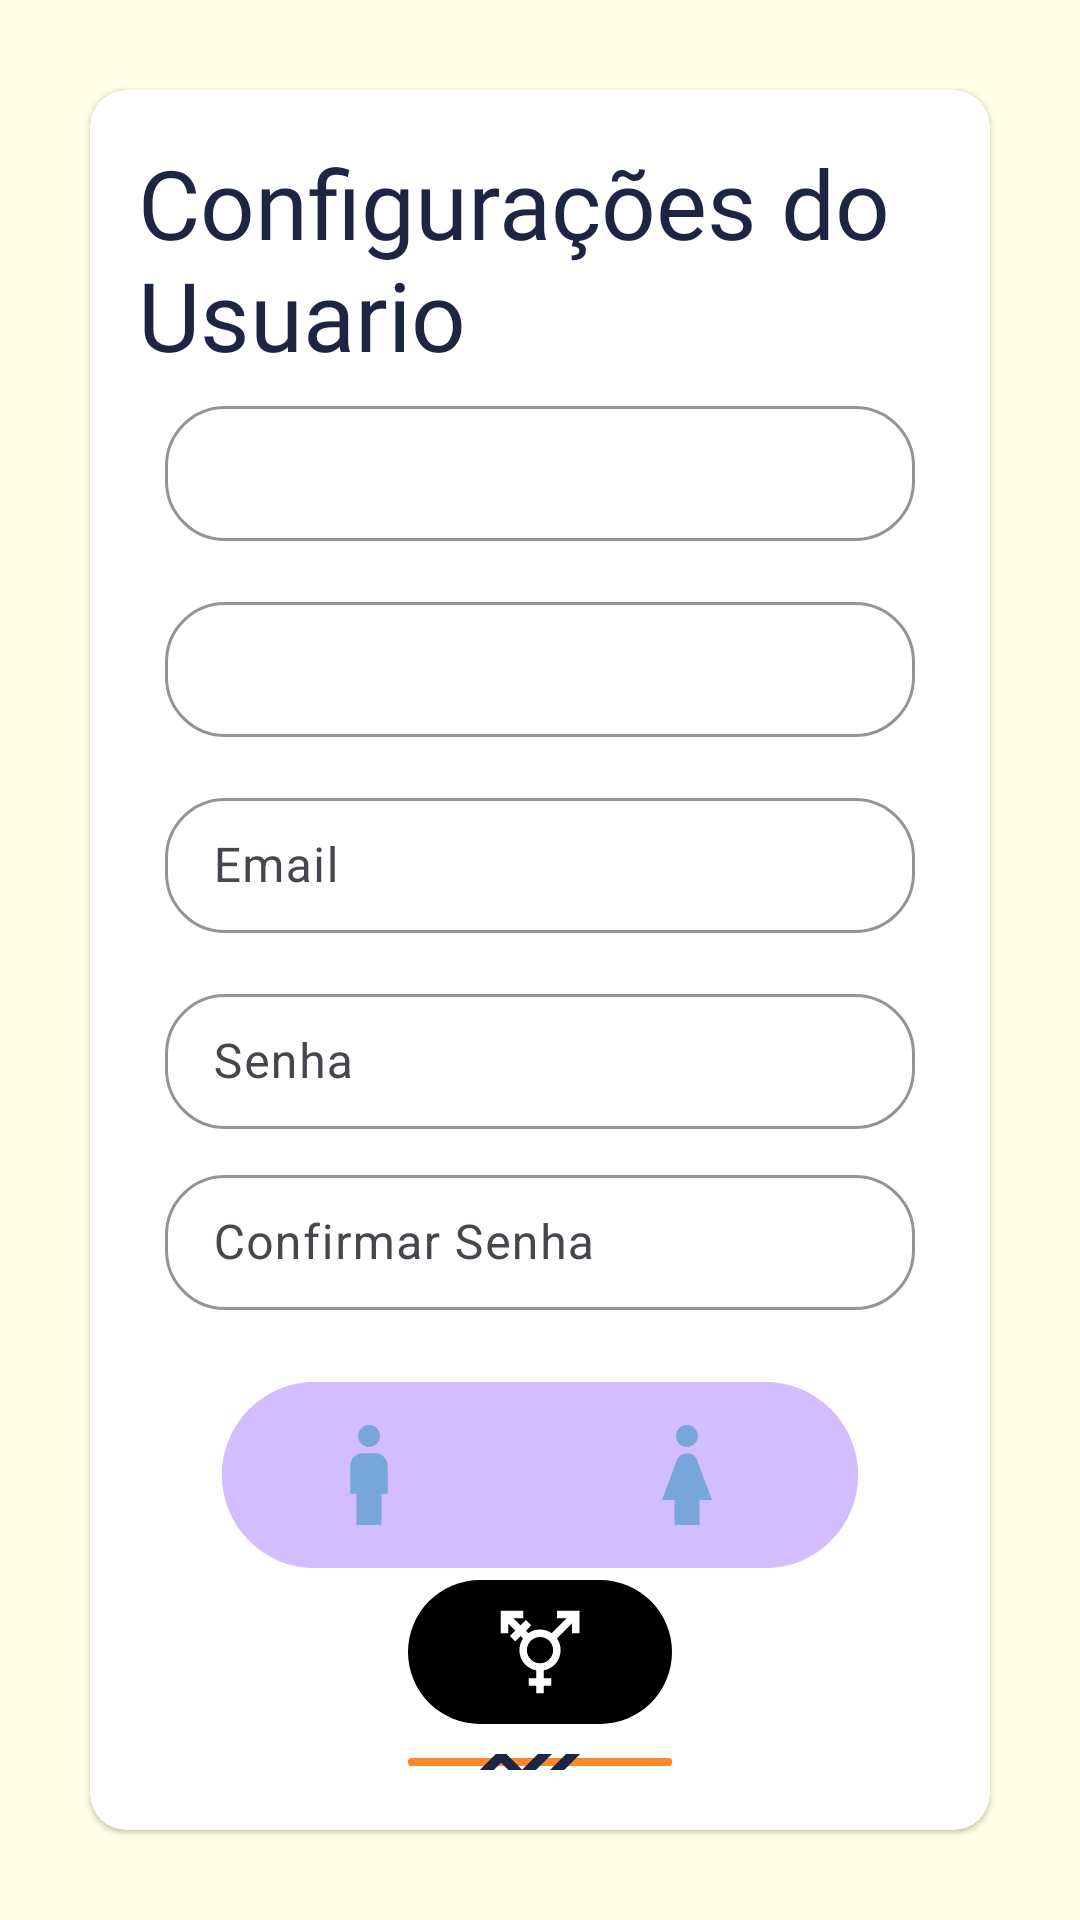

Icons on this 1080px×1920px Android screen, each with the point to tap as [x,y]:
boy: [381,1475]
girl: [699,1475]
transgender: [540,1652]
